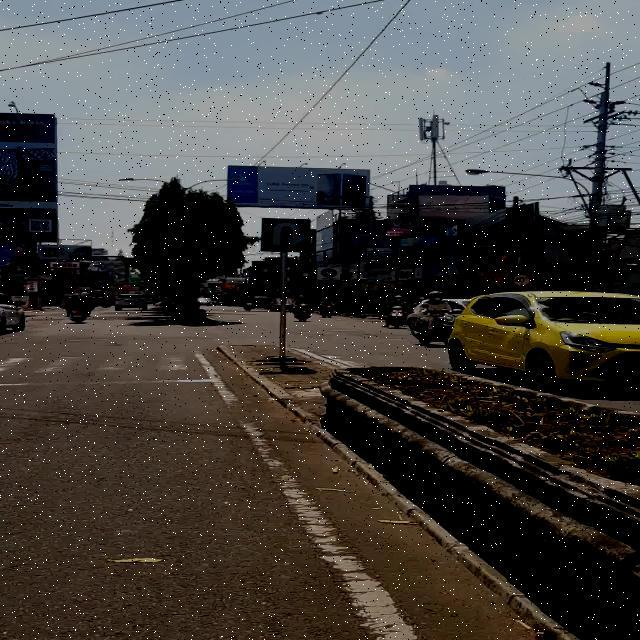Putar Balik: (260, 218, 310, 252)
